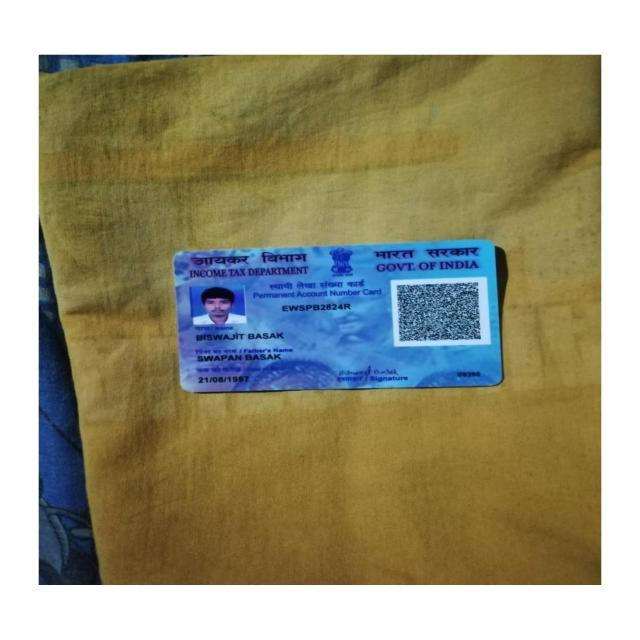pan_card: (172, 241, 502, 391)
